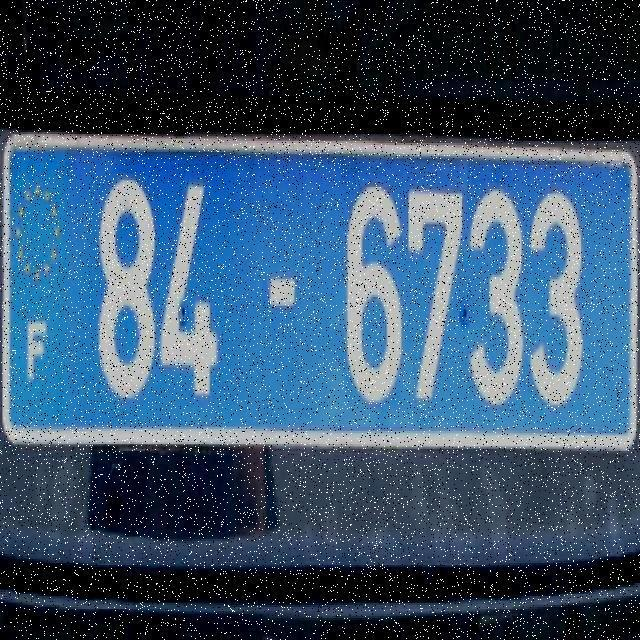LicensePlate: (2, 52, 640, 532)
